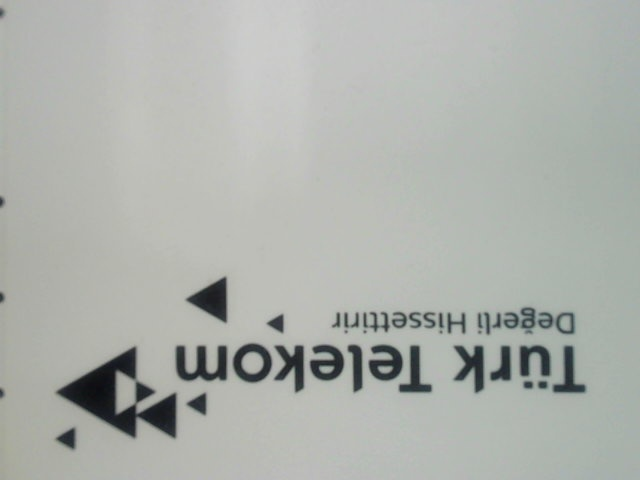AQ_TURKTelekom: (34, 276, 602, 456)
